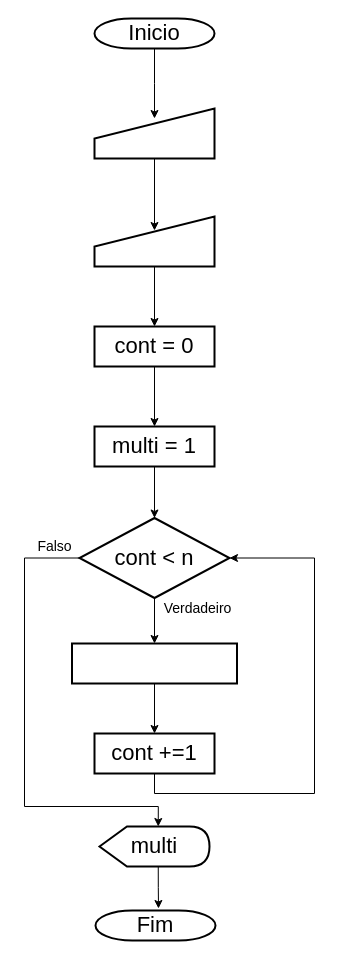
Image size: 340x958. Some labels were removed from this diagram. The shapes that lost their labels are listed below. From the top down, each one's centre as x and y in pixels, then its label:
At (154,133): "x (int)".
At (154,241): "n(int)".
At (154,663): "multi = multi * x".
